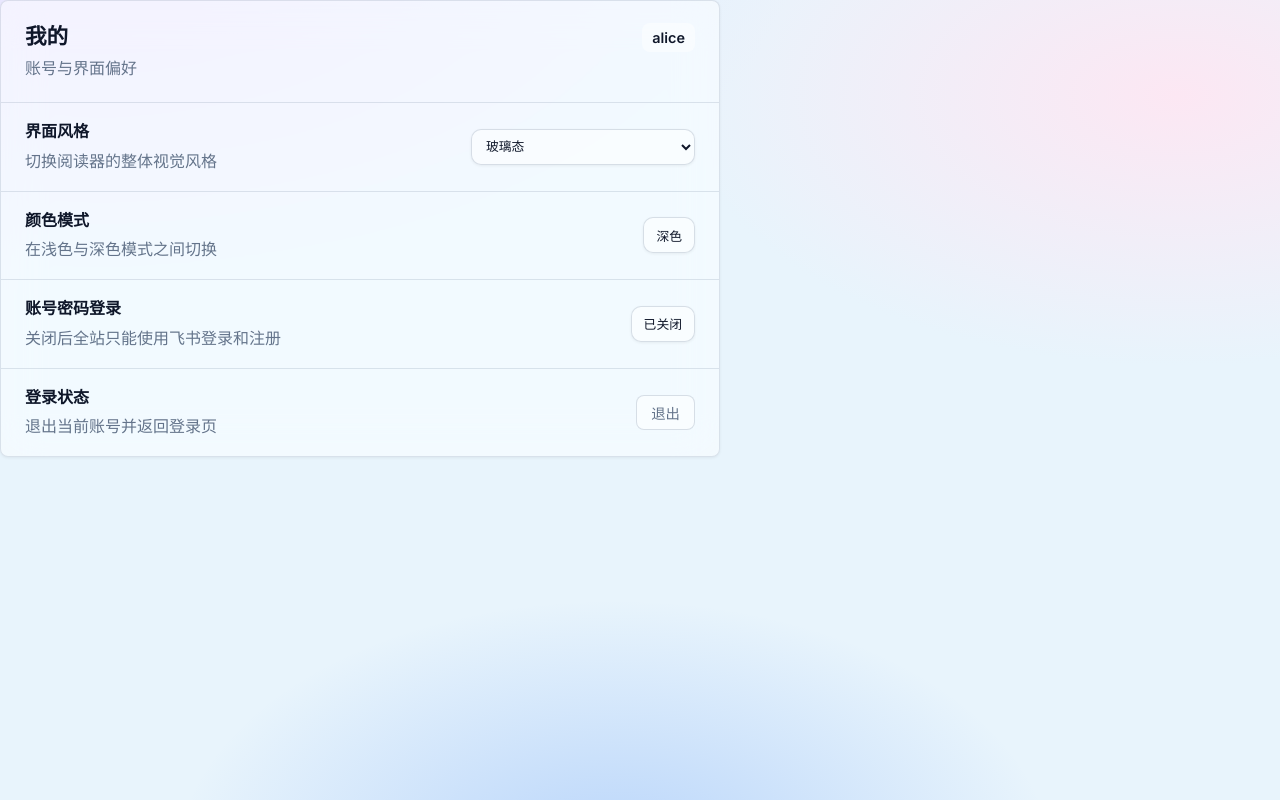
Test: 超级管理员点击已关闭时直接开启，无需确认
Click the button "已关闭": {"x": 663, "y": 324} [631, 306, 695, 342]
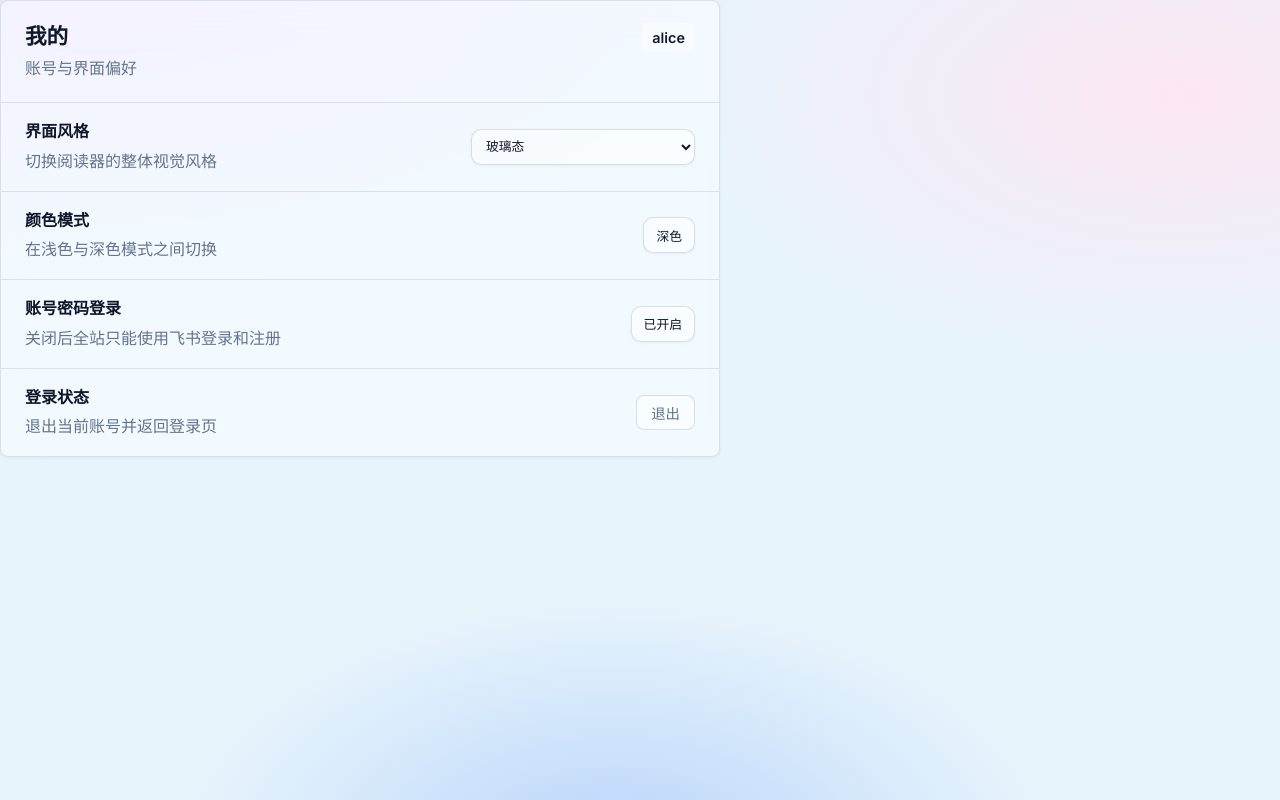
expect the button "已开启" is shown: met, box [631, 306, 695, 342]
